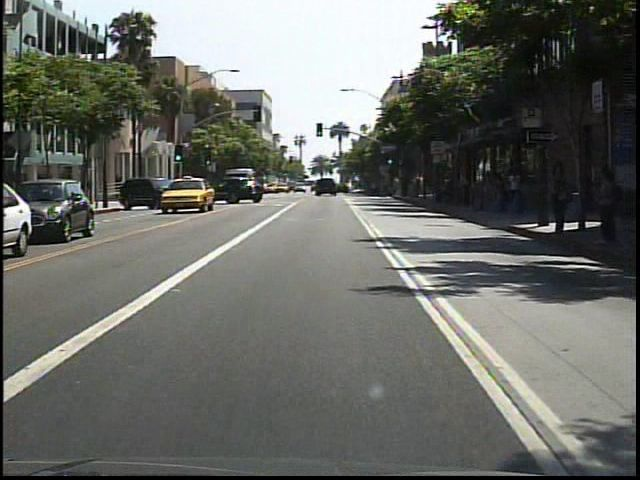person: (587, 165, 622, 246), (540, 158, 573, 239), (504, 167, 524, 212)
